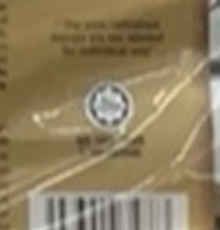halal: (94, 91, 122, 119)
